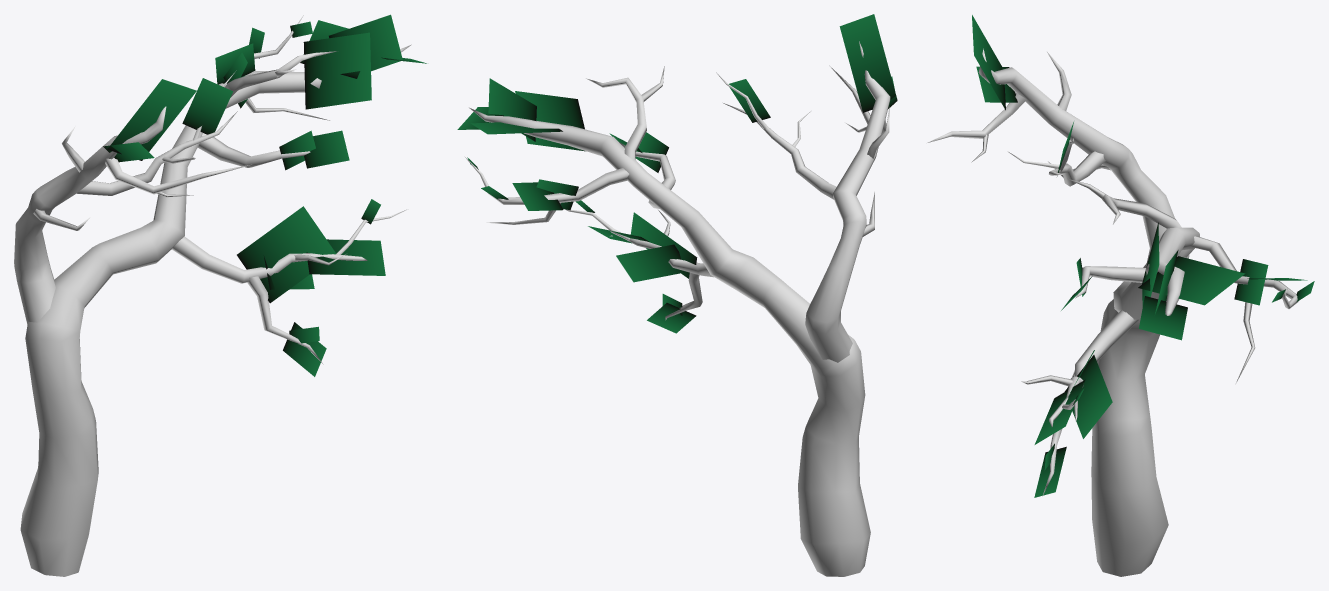
The model's file is SM_TreeWindsweptB02.fbx.
3 views of the same model, side by side, from view 1: azimuth 30°, elevation 25°; view 2: azimuth 150°, elevation 25°; view 3: azimuth 270°, elevation 25° (orthographic). The views are drawn at different scales.
Visible parts, largest first — view 1: SM_TreeWindsweptB02_LOD0; view 2: SM_TreeWindsweptB02_LOD0; view 3: SM_TreeWindsweptB02_LOD0.
Boxes of the visible parts, box(x1,y1,x2,y2) form: SM_TreeWindsweptB02_LOD0: box(14, 14, 426, 576); SM_TreeWindsweptB02_LOD0: box(457, 14, 897, 576); SM_TreeWindsweptB02_LOD0: box(927, 15, 1314, 576).
Bounding box in the file's own units: 924 × 1144 × 707.
